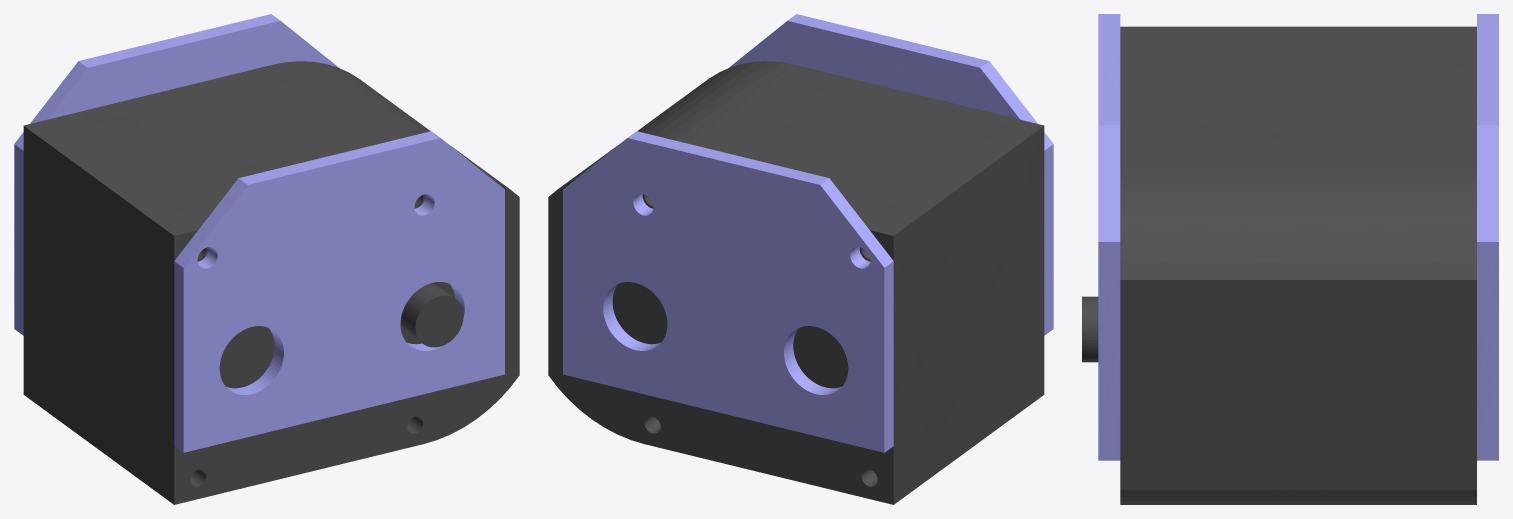
Rendered from melissa_palm.dae.
The picture shows the model from 3 angles, left to right: view 1: azimuth 30°, elevation 25°; view 2: azimuth 150°, elevation 25°; view 3: azimuth 270°, elevation 25°; orthographic projection. The views are drawn at different scales.
Parts seen in each view (by area): view 1: node; view 2: node; view 3: node.
Boxes of the visible parts, x1,y1,x2,y2 form: node: (14, 14, 519, 504); node: (548, 14, 1053, 504); node: (1082, 14, 1498, 504).
Bounding box in the file's own units: 0.043 × 0.037 × 0.038.
Materials: 1 (1 with a texture image).
